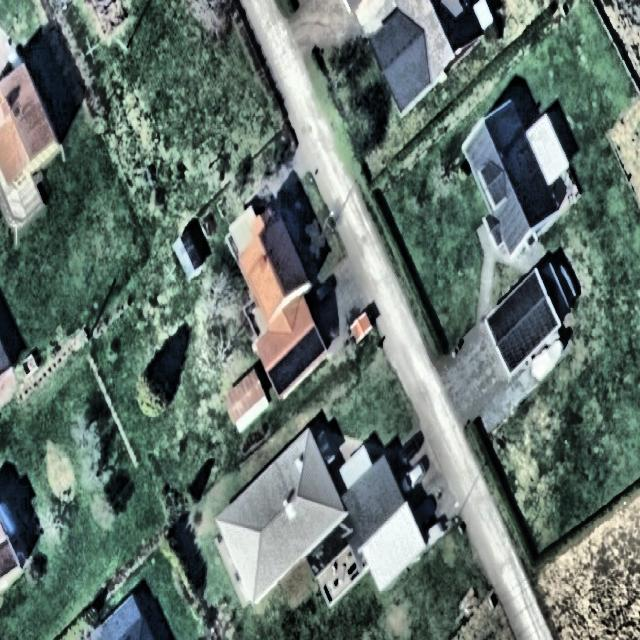roof_pv: (267, 329, 326, 397)
